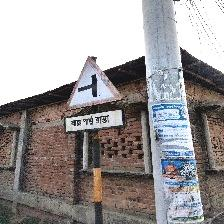Side-road-left: (65, 56, 125, 133)
